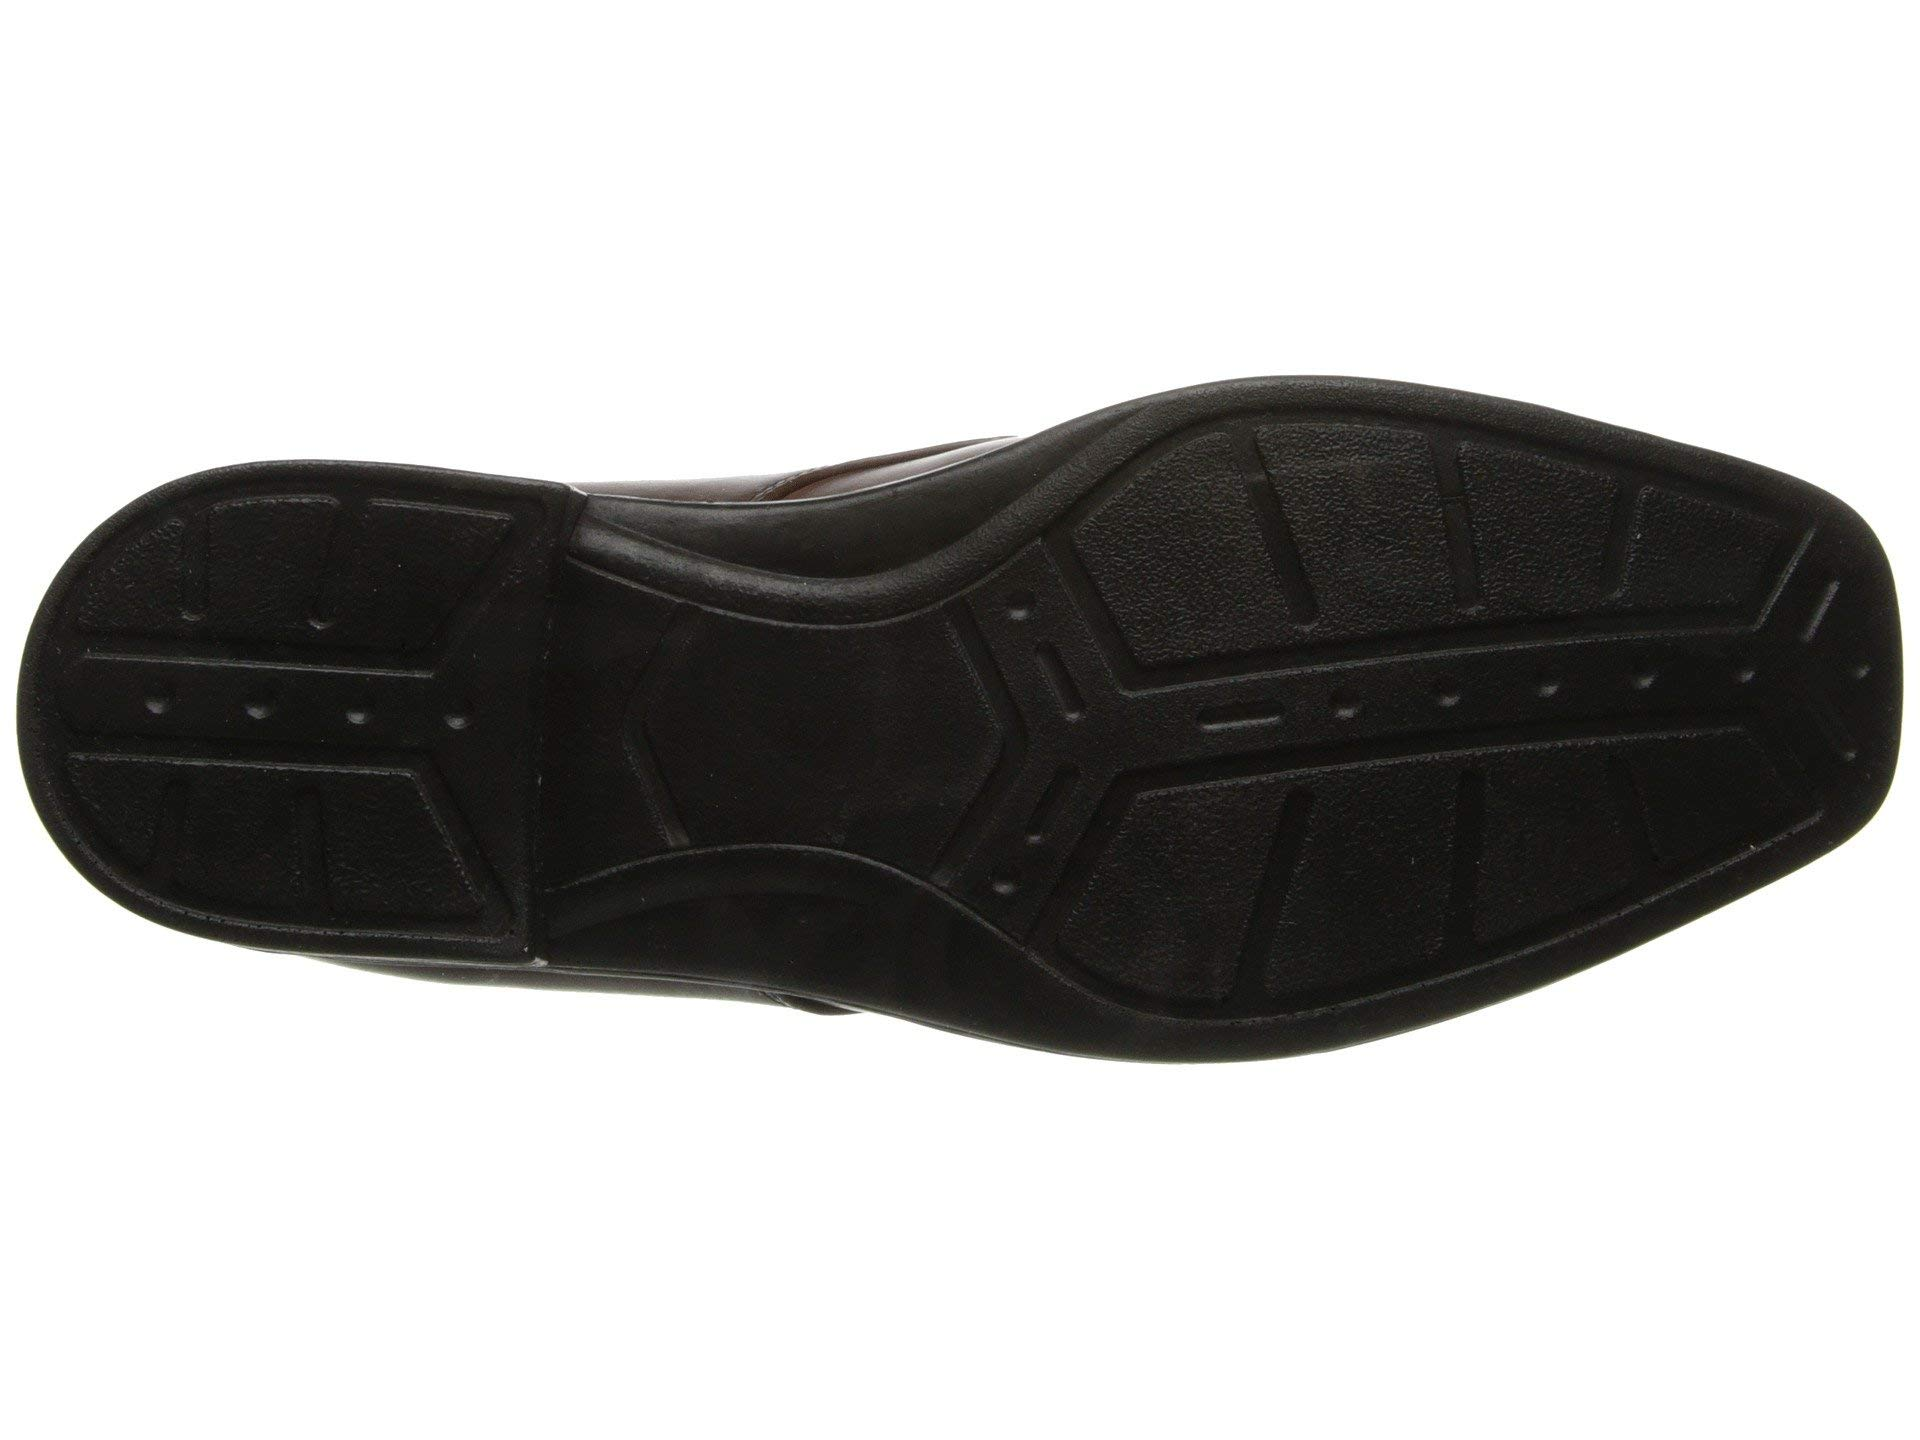chevron: (615, 590, 1008, 889)
circle: (1089, 417, 1528, 1027), (113, 507, 534, 942), (1553, 455, 1804, 867)
quad: (1089, 417, 1528, 1027), (113, 507, 534, 942), (1553, 455, 1804, 867)
